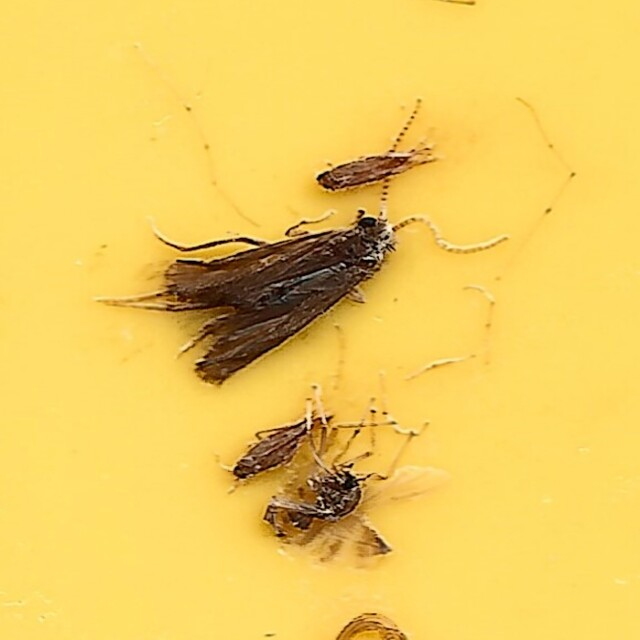Nematocera: (264, 461, 371, 544)
Trichoptera: (110, 96, 530, 385), (305, 141, 448, 194), (224, 412, 324, 480)
